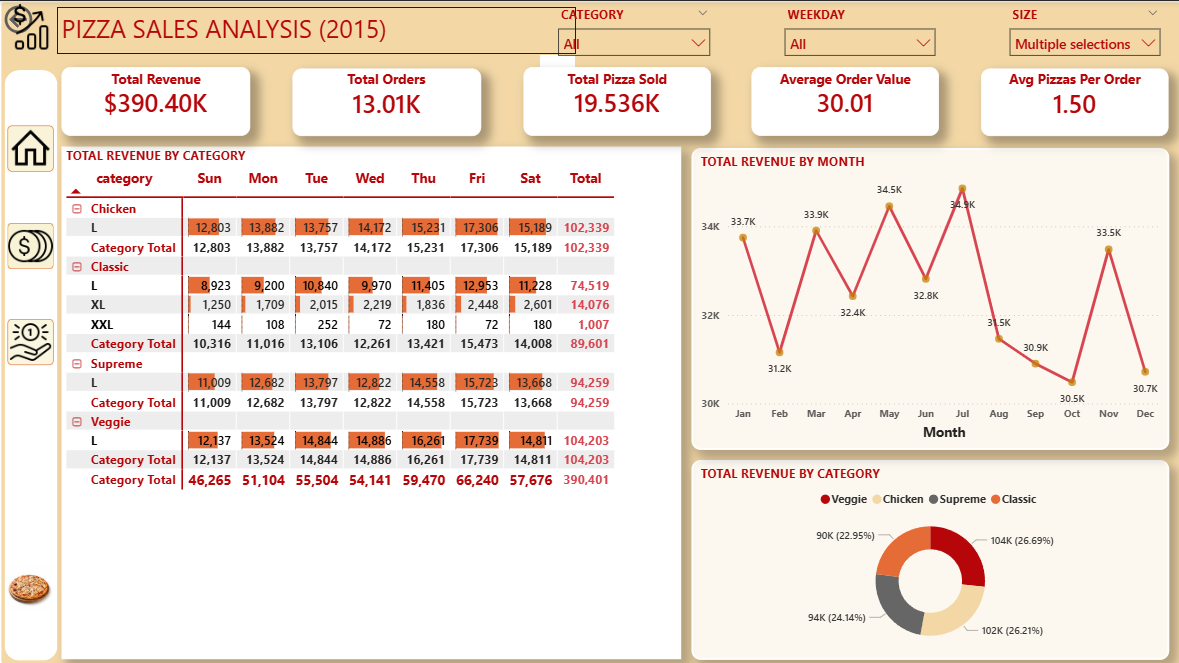

What the dashboard file says about the page in this screenshot:
{"tool":"powerbi","page":{"name":"Revenue_Analysis_Page","canvas":[1280,720],"ordinal":1},"visuals":[{"type":"pivotTable","title":"TOTAL REVENUE BY CATEGORY","fields":{"Values":["pizzas.Total Revenue"],"Rows":["pizza_types.category","pizzas.size"],"Columns":["Dates.WeekdayName"]},"box":[67.5,158.5,672.1,556.2],"z":0},{"type":"donutChart","title":"TOTAL REVENUE BY CATEGORY","fields":{"Category":["pizza_types.category"],"Y":["pizzas.Total Revenue"]},"box":[749.5,498.2,517.9,216.5],"z":1000},{"type":"lineChart","title":"TOTAL REVENUE BY MONTH","fields":{"Category":["Dates.MonthName"],"Y":["pizzas.Total Revenue"]},"box":[749.5,159,517.9,327.1],"z":2000},{"type":"textbox","box":[62.1,6.1,561.8,51.5],"z":3000},{"type":"actionButton","box":[0,0,100,40],"z":4000},{"type":"slicer","fields":{"Values":["pizza_types.category"]},"box":[595.1,0,184.7,65.1],"z":5000},{"type":"slicer","fields":{"Values":["Dates.WeekdayName"]},"box":[840.4,0,183.2,65.1],"z":6000},{"type":"slicer","fields":{"Values":["pizzas.size"]},"box":[1084.2,0,183.2,65.1],"z":7000},{"type":"image","box":[0,2.9,67.5,52.8],"z":8000},{"type":"shape","box":[4.5,74.2,57.5,640.5],"z":9000},{"type":"image","box":[7.6,134.8,50,50],"z":10000},{"type":"image","box":[7.6,240,50,50],"z":11000},{"type":"image","box":[7.6,345.2,50,50],"z":12000},{"type":"image","box":[5.9,611.9,49.9,49.9],"z":13000},{"type":"cardVisual","title":"Total Revenue","fields":{"Data":["pizzas.Average Order Value"]},"box":[815.3,71.6,203.3,74.8],"z":14000},{"type":"cardVisual","title":"Average Cost","fields":{"Data":["pizzas.Average Cost"]},"box":[1063.8,73.2,203.3,73.2],"z":15000},{"type":"cardVisual","fields":{"Data":["pizzas.Total Orders"]},"box":[316.8,73.2,204.9,73.2],"z":16000},{"type":"textbox","box":[826.3,68.3,180.5,39],"z":17000},{"type":"textbox","box":[1078.4,68.3,174,37.4],"z":18000},{"type":"textbox","box":[339.9,68.3,157.8,37.4],"z":19000},{"type":"cardVisual","fields":{"Data":["pizzas.Total Revenue"]},"box":[66.7,71.6,204.9,74.8],"z":20000},{"type":"textbox","box":[89.5,68.3,159.4,37.4],"z":21000},{"type":"cardVisual","title":"Total Revenue","fields":{"Data":["pizzas.Total Pizza Sold"]},"box":[566.9,71.6,203.3,74.8],"z":22000},{"type":"textbox","box":[579,68.3,180.5,39],"z":23000}]}

Visuals, with their boxes on the page's 1280x720 design canvas (x1, y1, x2, y2). These are canvas units, not pixel positions in the 1179x663 screenshot, which may show the page scaled, cropped or inside an application window:
"TOTAL REVENUE BY CATEGORY" pivotTable: rect(68, 158, 740, 715)
"TOTAL REVENUE BY CATEGORY" donutChart: rect(750, 498, 1267, 715)
"TOTAL REVENUE BY MONTH" lineChart: rect(750, 159, 1267, 486)
textbox: rect(62, 6, 624, 58)
actionButton: rect(0, 0, 100, 40)
slicer - pizza_types.category: rect(595, 0, 780, 65)
slicer - Dates.WeekdayName: rect(840, 0, 1024, 65)
slicer - pizzas.size: rect(1084, 0, 1267, 65)
image: rect(0, 3, 68, 56)
shape: rect(4, 74, 62, 715)
image: rect(8, 135, 58, 185)
image: rect(8, 240, 58, 290)
image: rect(8, 345, 58, 395)
image: rect(6, 612, 56, 662)
"Total Revenue" cardVisual: rect(815, 72, 1019, 146)
"Average Cost" cardVisual: rect(1064, 73, 1267, 146)
cardVisual - pizzas.Total Orders: rect(317, 73, 522, 146)
textbox: rect(826, 68, 1007, 107)
textbox: rect(1078, 68, 1252, 106)
textbox: rect(340, 68, 498, 106)
cardVisual - pizzas.Total Revenue: rect(67, 72, 272, 146)
textbox: rect(90, 68, 249, 106)
"Total Revenue" cardVisual: rect(567, 72, 770, 146)
textbox: rect(579, 68, 760, 107)
